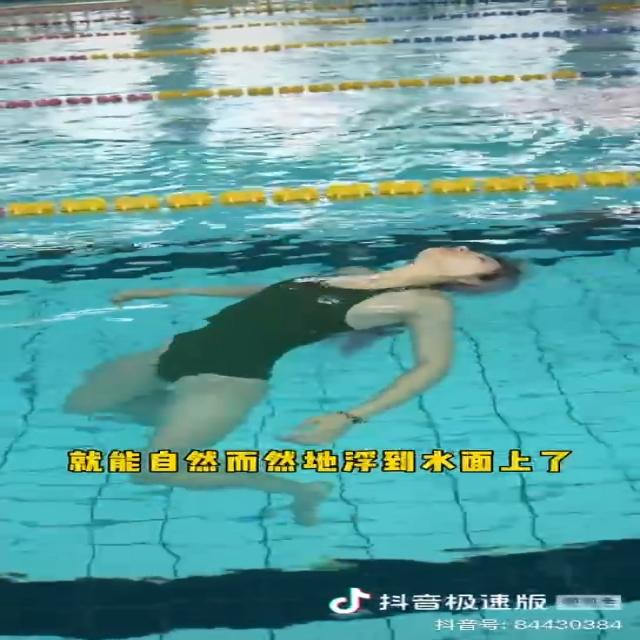Drowning: (59, 241, 524, 525)
